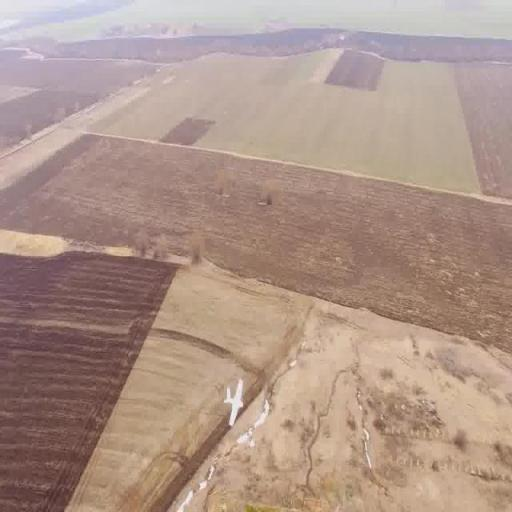uav: (210, 360, 250, 450)
